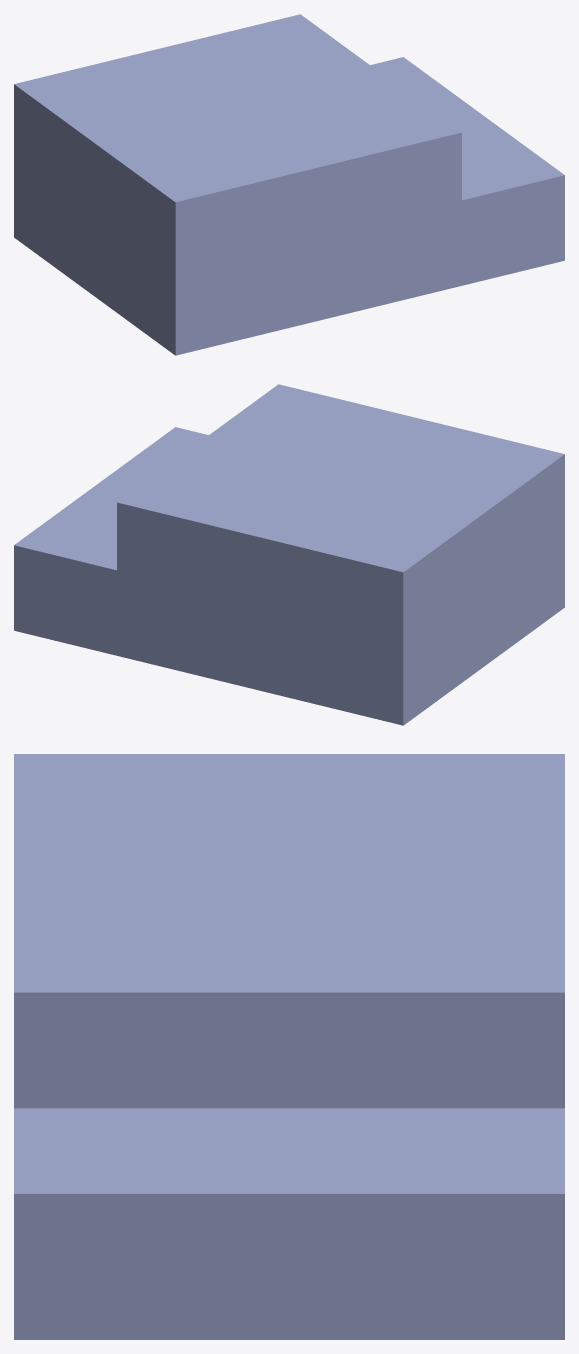
3 renders of one model, top to bottom at view 1: azimuth 30°, elevation 25°; view 2: azimuth 150°, elevation 25°; view 3: azimuth 270°, elevation 25°, orthographic. The views are drawn at different scales.
Visible parts, largest first — view 1: Cube; view 2: Cube; view 3: Cube.
Part boxes in pixels (left/top/right/bottom): Cube: left=14, top=14, right=564, bottom=355; Cube: left=14, top=384, right=564, bottom=725; Cube: left=14, top=754, right=564, bottom=1339.
Size of what is drawn, in the model's own units: 8.24 by 3.1 by 5.92.
